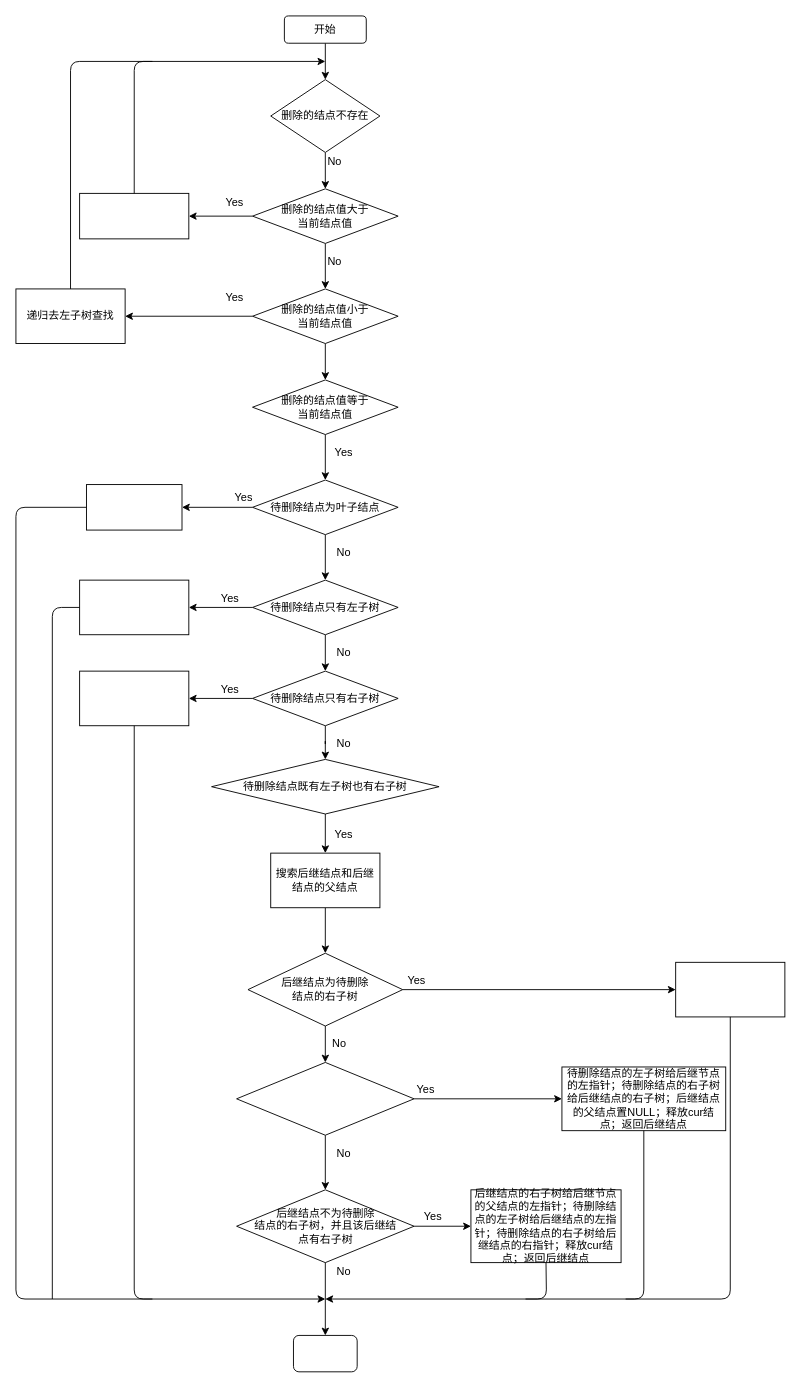
The diagram is 801 pixels wide and 1388 high, and some of its shapes have lost their labels. The centre of each missing label's shape, as x and y in pixels:
右子树给temp指针保存，释放cur结点， 返回temp: point 134,698
后继结点不为待删除 结点的右子树，并且该后继结 点没有右子树: point 325,1098
左子树给temp指针保存，释放cur结点， 返回temp: point 134,607
待删除结点的左子树给后继结点的左指针 返回后继结点: point 730,989
结束: point 325,1353
递归去右子树查找: point 134,215
释放cur结点: point 134,507
